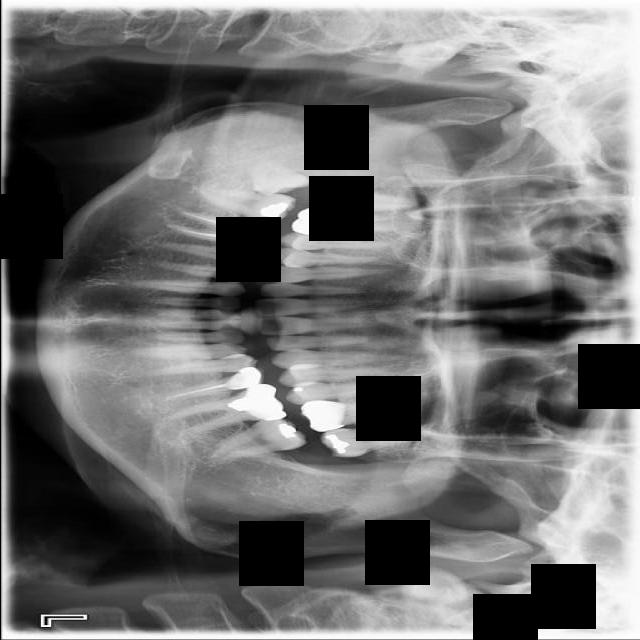52: (247, 401, 311, 462), (233, 378, 287, 432), (316, 418, 369, 473), (296, 391, 352, 438), (226, 210, 277, 257), (240, 189, 297, 226), (289, 201, 338, 241), (222, 364, 266, 393), (308, 185, 357, 210), (283, 380, 329, 406)
73: (170, 207, 240, 246), (157, 375, 233, 403), (56, 612, 62, 620)
BioHorizons Implant: (318, 426, 436, 459)
Blue Sky Bio Implant: (203, 411, 309, 464)
Caries: (308, 184, 418, 213)
Implant: (195, 184, 298, 226)
Keystone Dental Implant: (230, 141, 312, 214)
